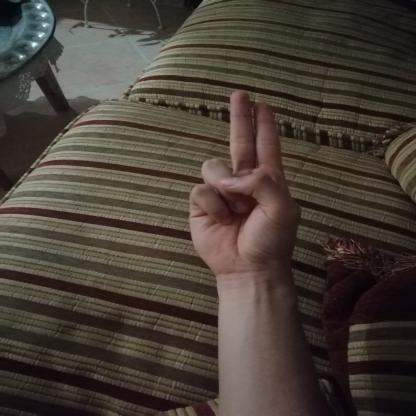TA: (171, 78, 306, 288)
